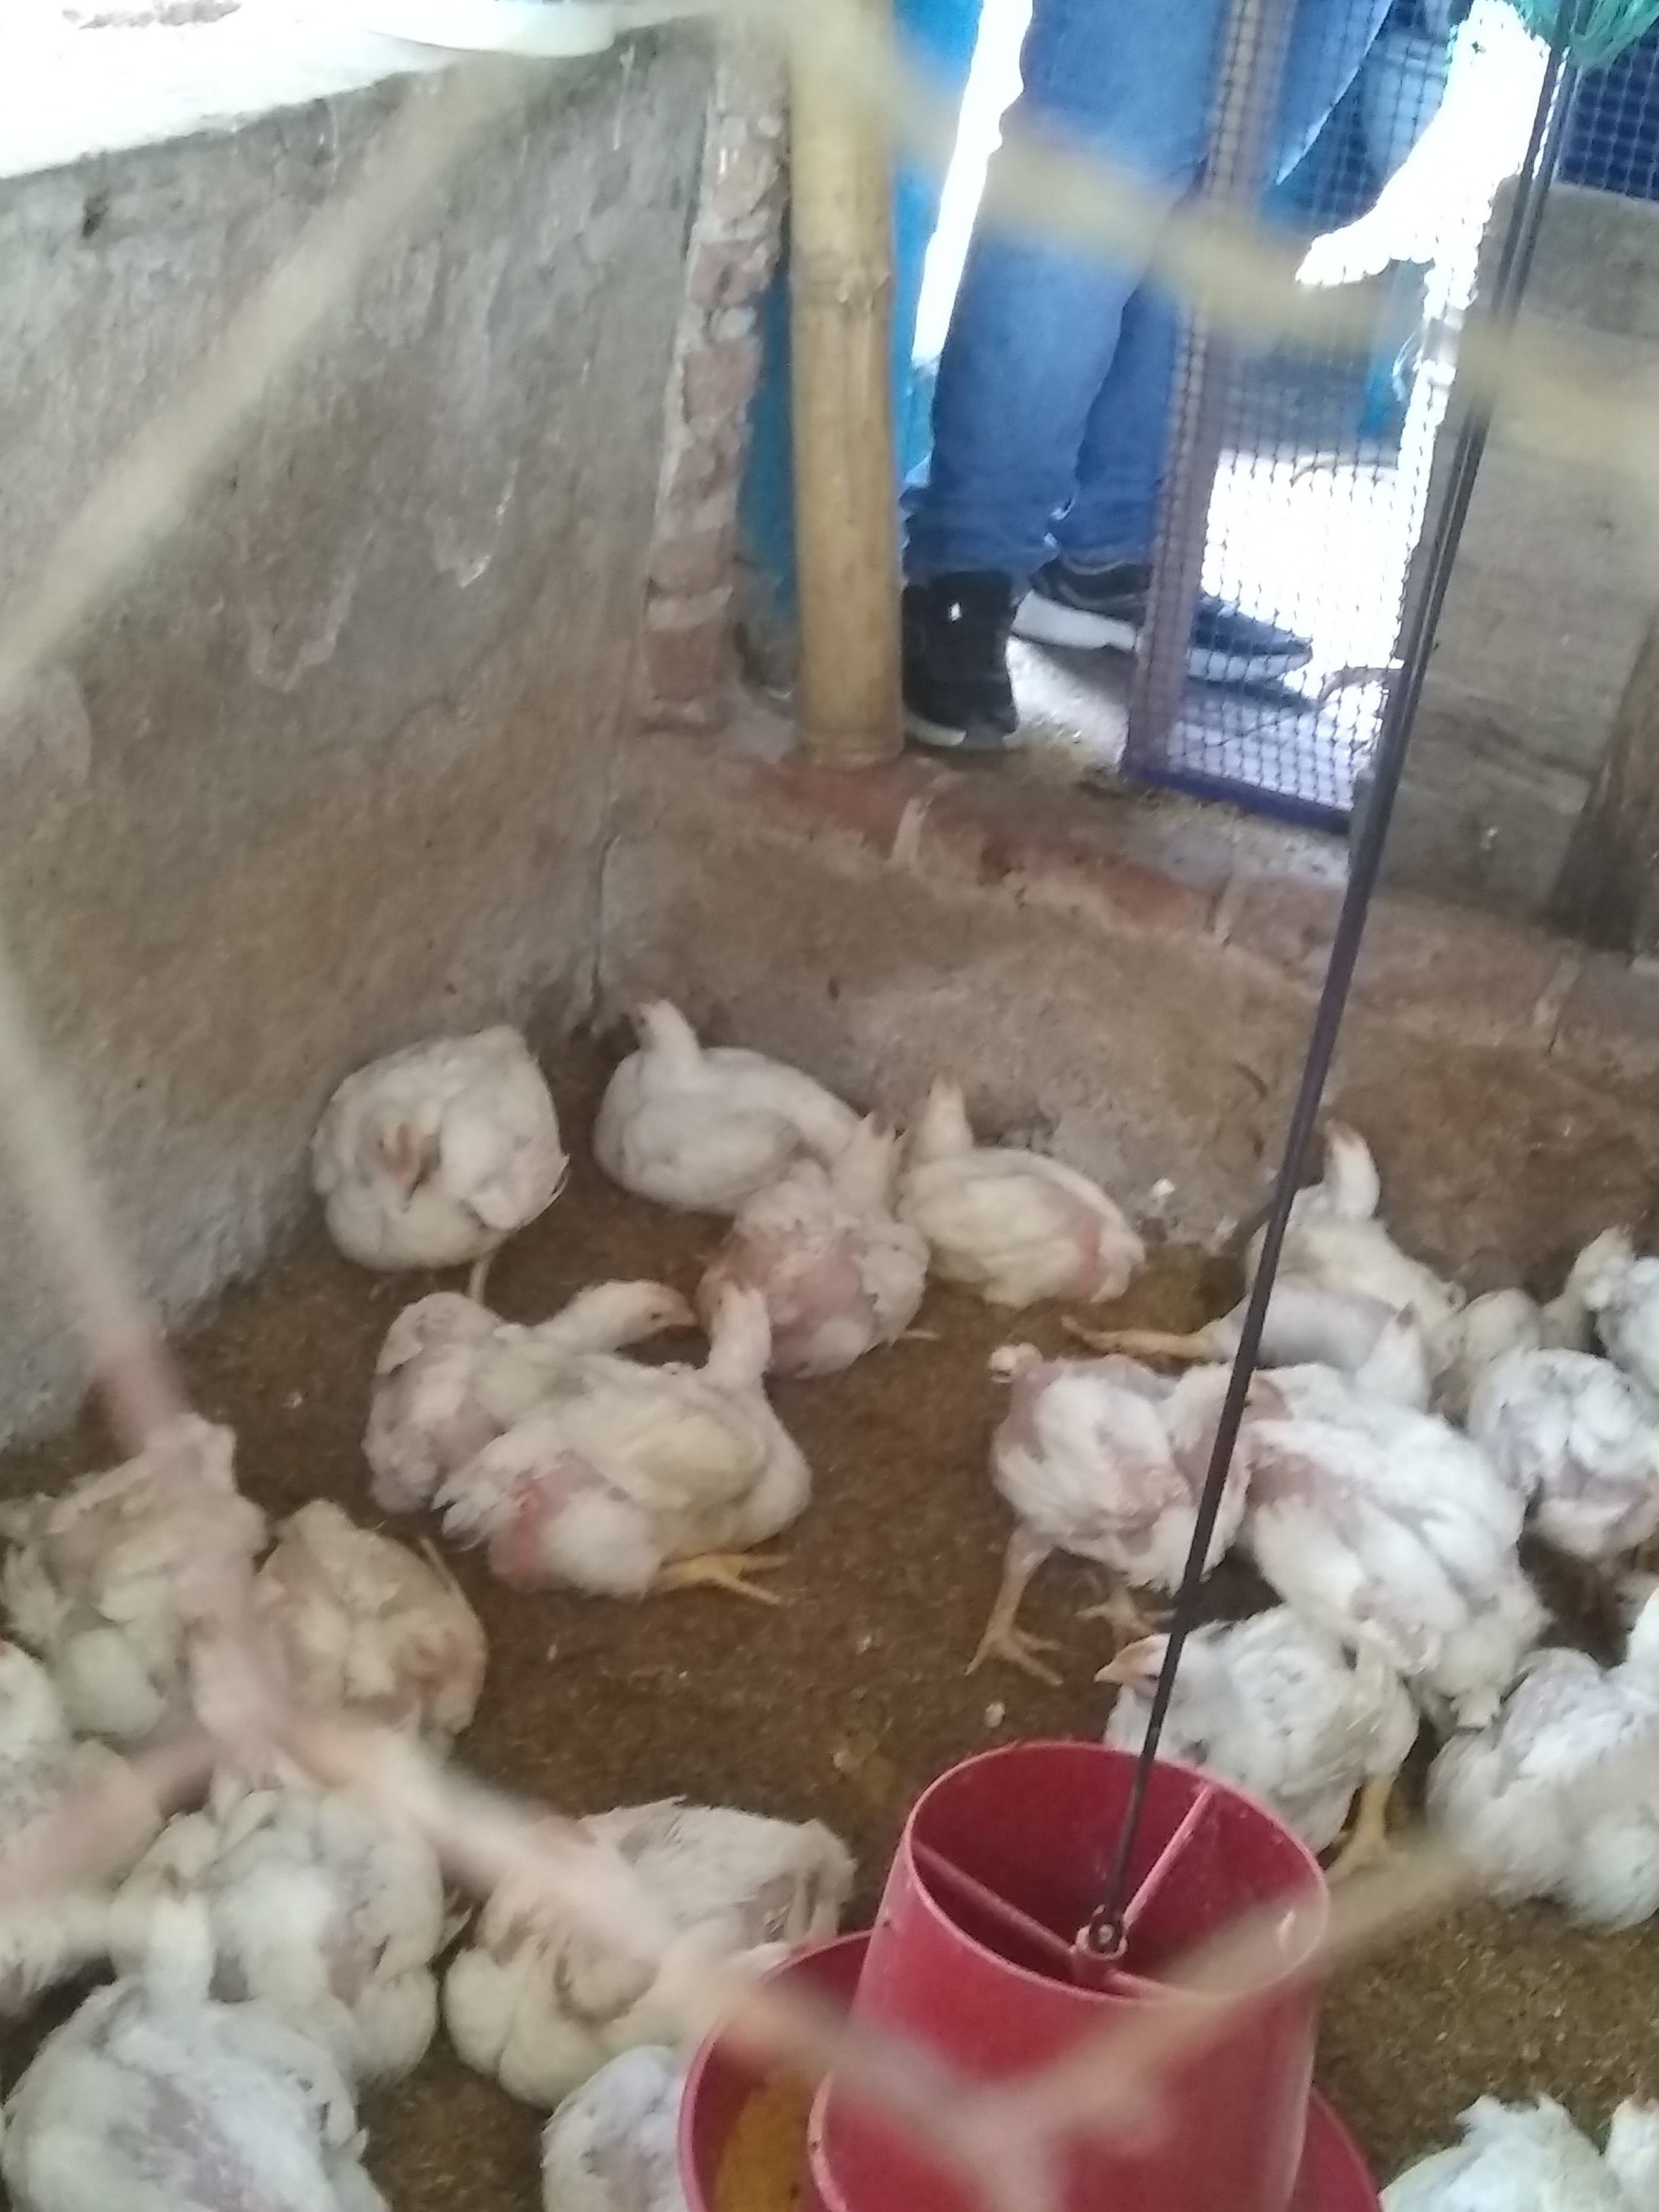Pollos: (0, 1902, 460, 2205), (462, 1787, 845, 2094), (457, 1277, 791, 1616), (1232, 1362, 1554, 1674), (1093, 1622, 1420, 1892), (999, 1343, 1295, 1639), (335, 1266, 699, 1484), (120, 1775, 427, 2027), (1455, 1576, 1659, 1940), (690, 1108, 950, 1366), (315, 1014, 558, 1271), (204, 1501, 493, 1716), (0, 1399, 256, 1622), (903, 1073, 1145, 1305), (596, 989, 829, 1204), (1464, 1341, 1659, 1564), (0, 1649, 159, 1919), (1345, 2087, 1659, 2212), (525, 2038, 762, 2203), (1445, 1193, 1650, 1378), (1284, 1111, 1467, 1305), (1258, 1308, 1445, 1420)
